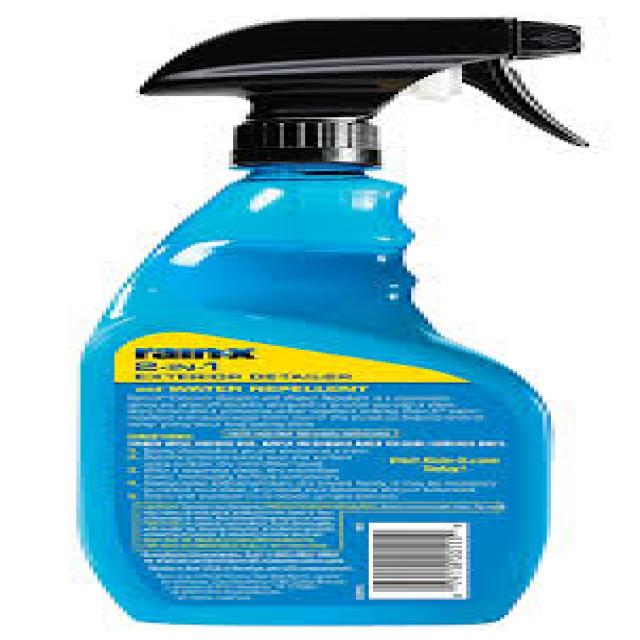winwinshield_washer: (69, 19, 599, 626)
